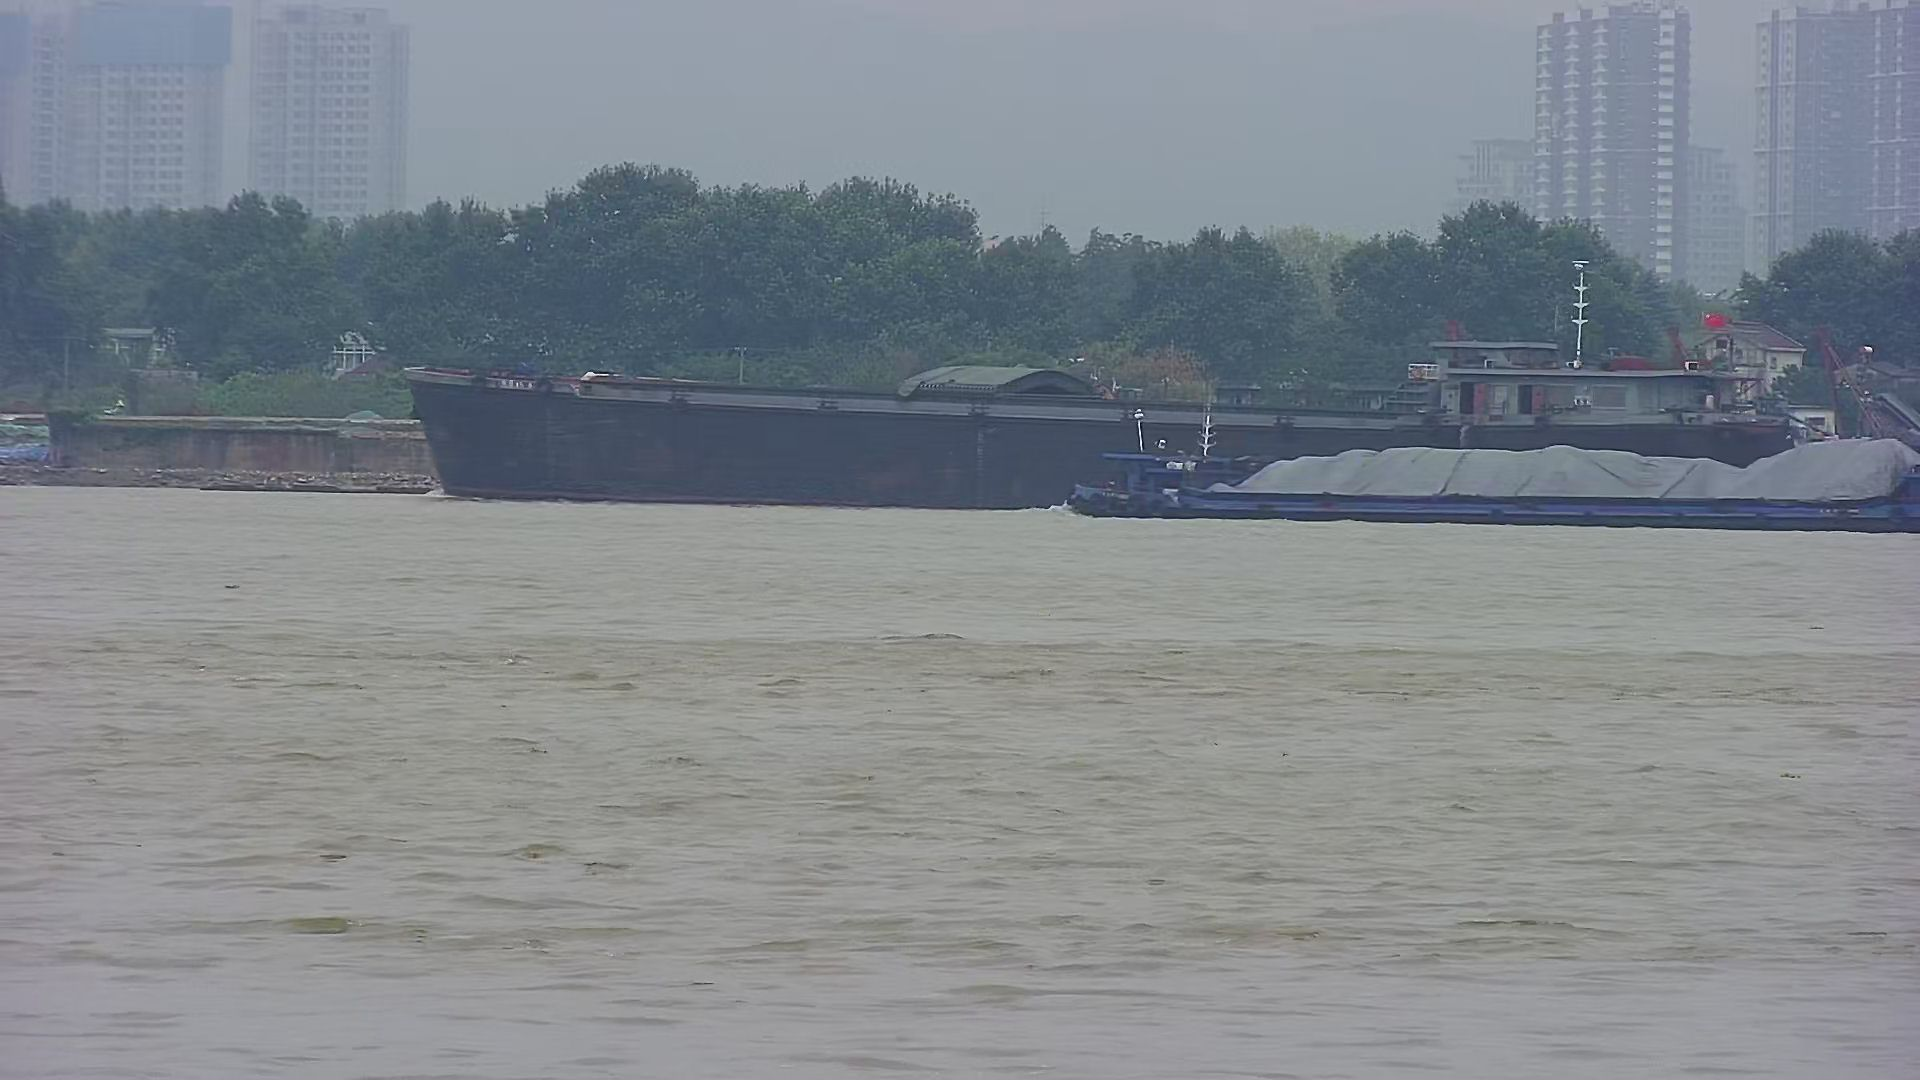ship: (398, 243, 1789, 501), (1062, 389, 1920, 524)
